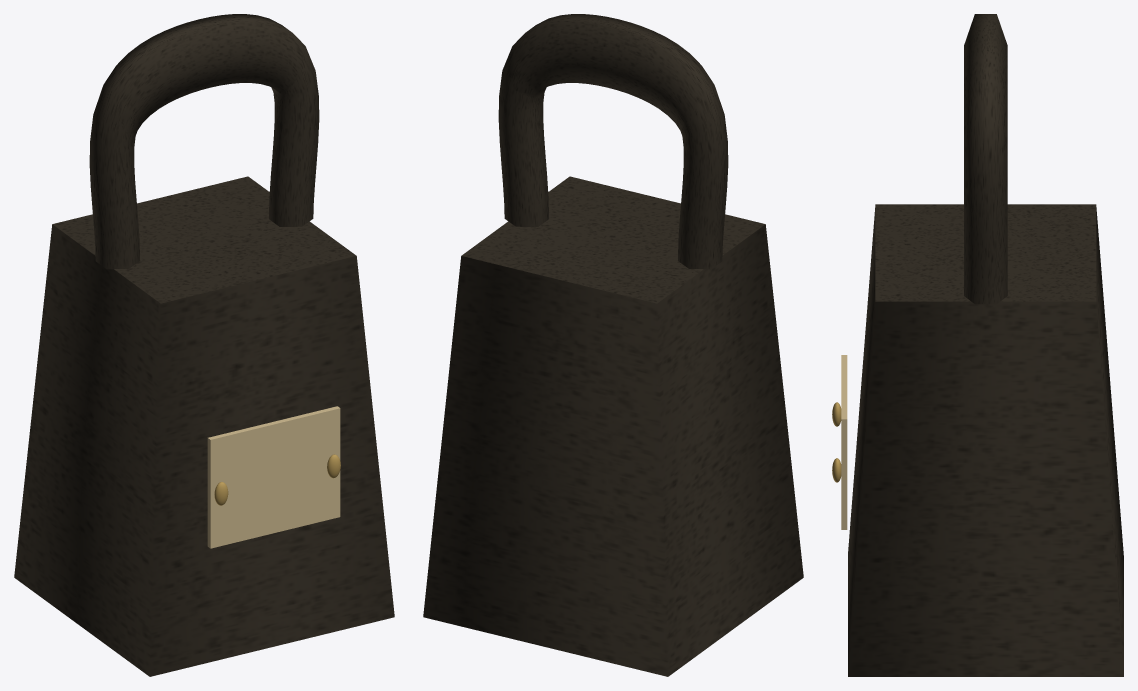
The picture shows the model from 3 angles, left to right: view 1: azimuth 30°, elevation 25°; view 2: azimuth 150°, elevation 25°; view 3: azimuth 270°, elevation 25°; orthographic projection.
Parts seen in each view (by area): view 1: iron-1; view 2: iron-1; view 3: iron-1.
Boxes of the visible parts, box(x1,y1,x2,y2) form: iron-1: box(14, 14, 394, 676); iron-1: box(423, 14, 803, 676); iron-1: box(832, 14, 1123, 676).
Bounding box in the file's own units: 0.125 × 0.28 × 0.1268.
3 materials, 1 textured.
